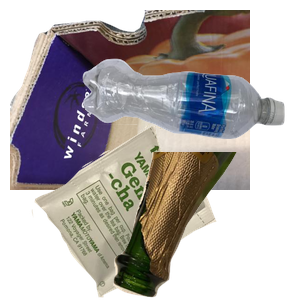cardboard: (10, 10, 250, 190)
glass: (111, 152, 300, 300)
plastic: (80, 56, 300, 187)
trash: (29, 124, 238, 300)
